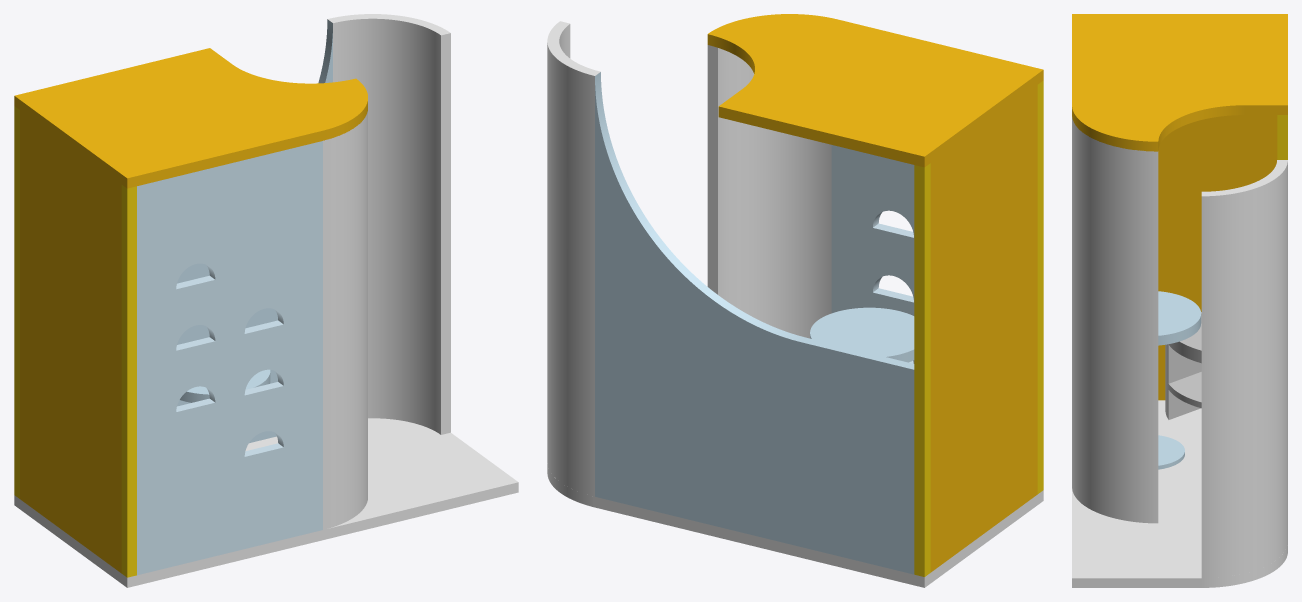
Rendered from Private Reading SPace.gltf.
The picture shows the model from 3 angles, left to right: view 1: azimuth 30°, elevation 25°; view 2: azimuth 150°, elevation 25°; view 3: azimuth 270°, elevation 25°; orthographic projection. The views are drawn at different scales.
Visible parts, largest first — view 1: Part 11, BackWall, Corner, Ceiling, Corner2, Floor, SupportBar (×2), RightWall, Table1; view 2: RightWall, BackWall, Ceiling, Corner2, Corner, Part 11, SupportBar (×2), Floor, Table1; view 3: Corner, Corner2, Ceiling, Floor, BackWall, Chair1, Table1, SupportBar.
Boxes of the visible parts, <box> form: Part 11: <box>137,141,322,575</box>; BackWall: <box>20,110,121,573</box>; Corner: <box>327,14,450,434</box>; Ceiling: <box>14,48,367,188</box>; Corner2: <box>323,111,367,529</box>; Floor: <box>14,418,518,587</box>; SupportBar (×2): <box>14,106,136,577</box>; RightWall: <box>177,19,332,443</box>; Table1: <box>180,369,270,402</box>; RightWall: <box>595,72,914,574</box>; BackWall: <box>930,85,1037,572</box>; Ceiling: <box>707,14,1043,167</box>; Corner2: <box>707,45,831,338</box>; Corner: <box>547,21,600,496</box>; Part 11: <box>831,145,914,363</box>; SupportBar (×2): <box>914,80,1043,576</box>; Floor: <box>547,463,1043,587</box>; Table1: <box>810,307,914,362</box>; Corner: <box>1201,160,1287,578</box>; Corner2: <box>1072,117,1158,523</box>; Ceiling: <box>1072,14,1287,151</box>; Floor: <box>1072,400,1287,587</box>; BackWall: <box>1158,115,1277,400</box>; Chair1: <box>1165,312,1201,419</box>; Table1: <box>1158,291,1201,469</box>; SupportBar: <box>1277,115,1287,159</box>.
Bounding box in the file's own units: 2 × 2 × 1.
